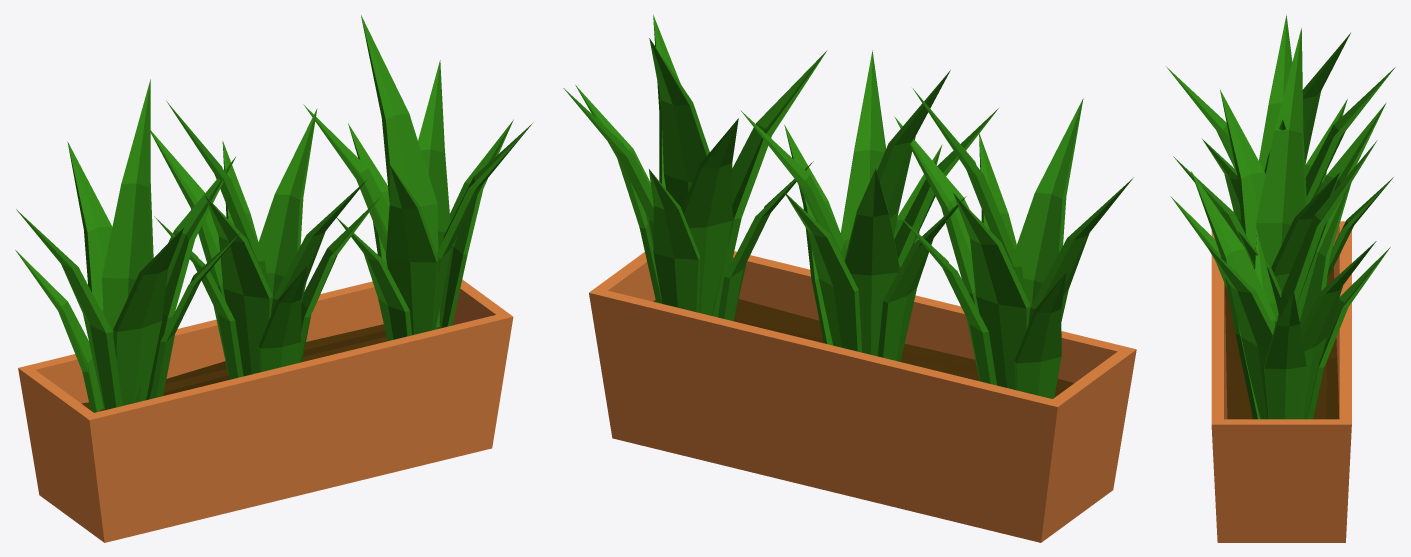
The model's file is R_Plants.fbx.
3 views of the same model, side by side, from view 1: azimuth 30°, elevation 25°; view 2: azimuth 150°, elevation 25°; view 3: azimuth 270°, elevation 25° (orthographic). The views are drawn at different scales.
Parts seen in each view (by area): view 1: R_Plants; view 2: R_Plants; view 3: R_Plants.
Part boxes in pixels (box(x1,y1,x2,y2)): R_Plants: box(15, 15, 533, 542); R_Plants: box(563, 14, 1136, 542); R_Plants: box(1166, 14, 1395, 542).
Bounding box in the file's own units: 1322 × 536 × 972.
